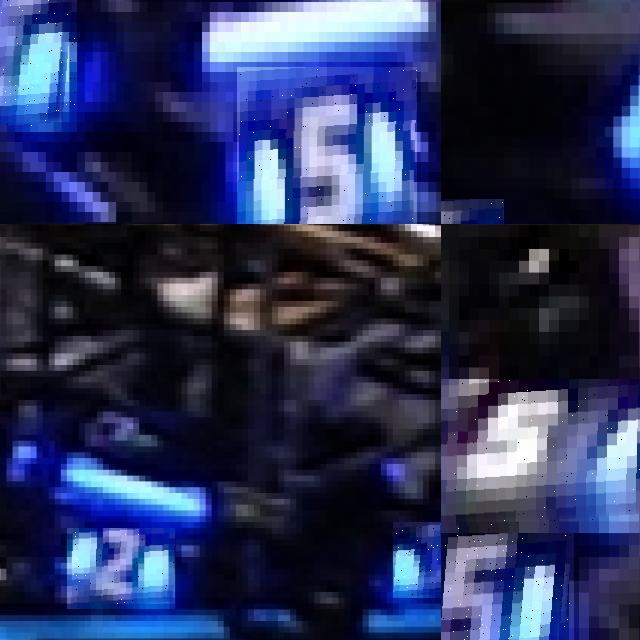B2: (67, 528, 175, 609), (392, 522, 441, 597)
B5: (441, 379, 640, 533), (237, 67, 416, 224), (441, 533, 574, 640), (0, 0, 77, 132)
